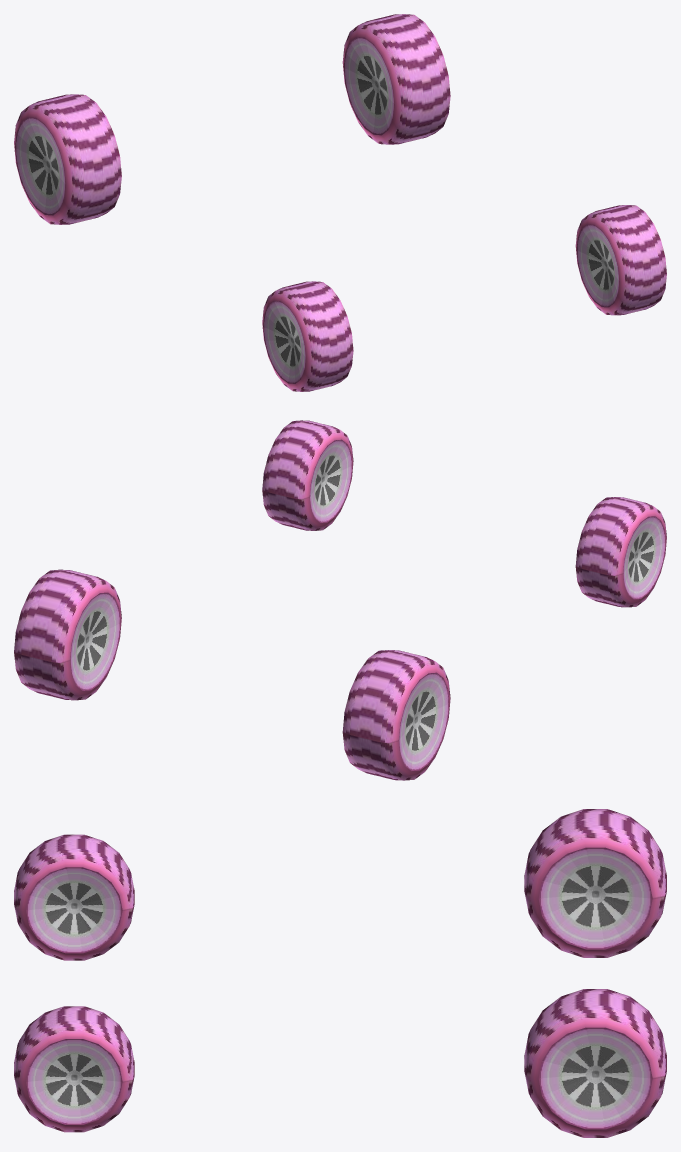
Rendered from wheels_roller.glb.
3 views of the same model, one above another, from view 1: azimuth 30°, elevation 25°; view 2: azimuth 150°, elevation 25°; view 3: azimuth 270°, elevation 25° (orthographic). The views are drawn at different scales.
Parts seen in each view (by area): view 1: Wheel_R, Wheel_FL, Wheel_FR; view 2: Wheel_R, Wheel_FR, Wheel_FL; view 3: Wheel_R, Wheel_FR, Wheel_FL.
Part boxes in pixels (box(x1,y1,x2,y2)): Wheel_R: box(14, 14, 450, 224); Wheel_FL: box(262, 281, 353, 391); Wheel_FR: box(575, 205, 666, 315); Wheel_R: box(14, 569, 450, 780); Wheel_FR: box(262, 420, 353, 530); Wheel_FL: box(575, 497, 666, 607); Wheel_R: box(524, 809, 666, 1137); Wheel_FR: box(14, 1006, 134, 1132); Wheel_FL: box(14, 834, 134, 960).
Size of the model in its own units: 1.81 by 0.5127 by 2.38.
Materials: 1 (1 with a texture image).
